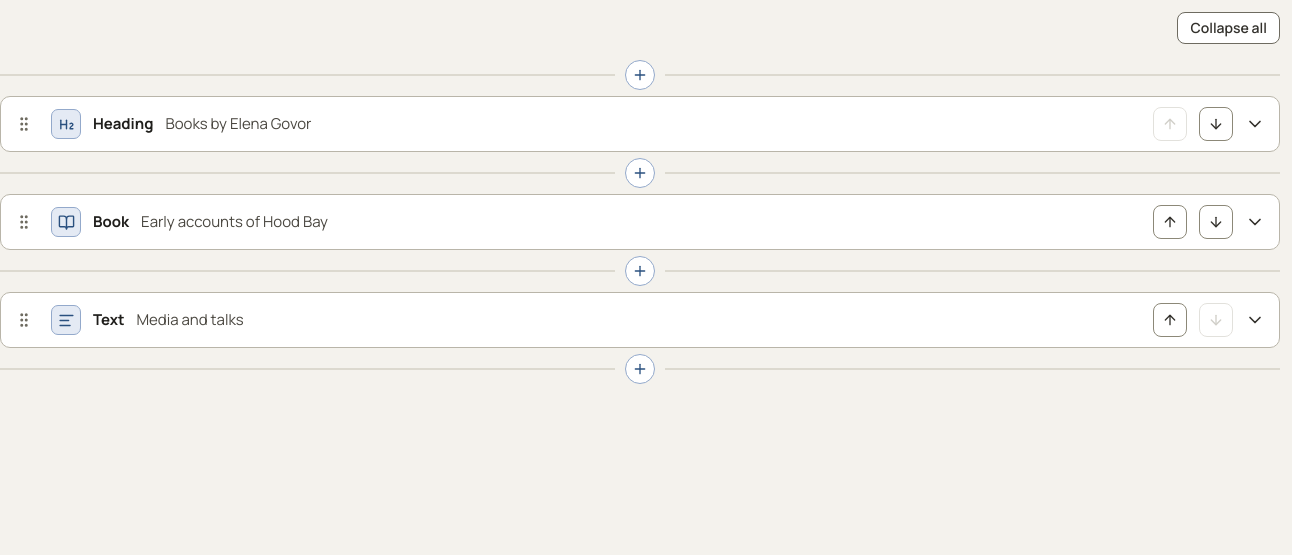
Test: BlocksEditor: accordion › offers Collapse all in the field label row
This screenshot has width=1292, height=555.
Click the button "Heading Books by Elena Govor".
click(123, 124)  # box [51,109,1141,139]
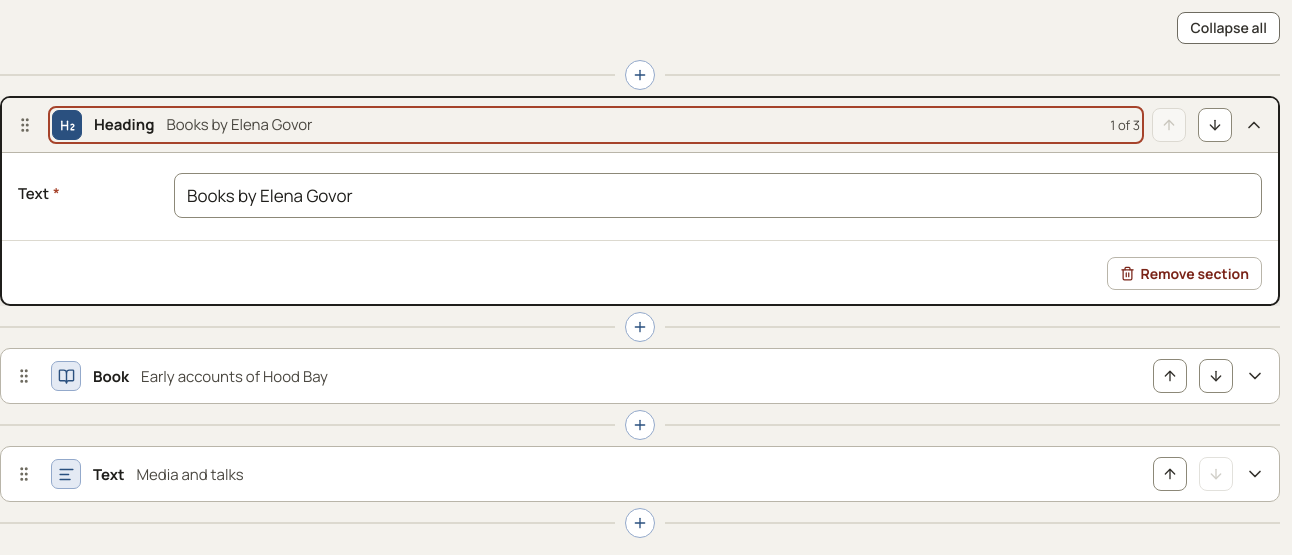
Click the button "Collapse all".
click(1229, 28)  # box [1178,12,1280,44]
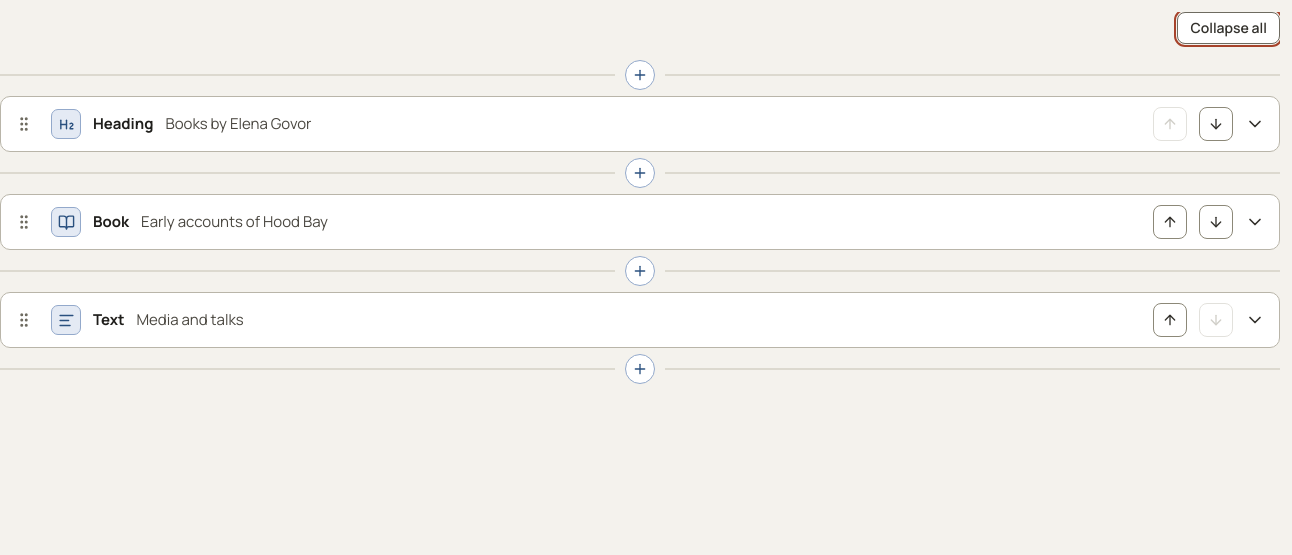
Result: the button "Heading Books by Elena Govor" is collapsed at [51,109,1141,139]
